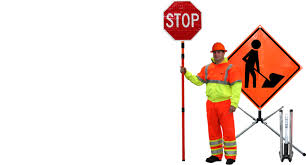stop sign: (163, 1, 203, 39)
